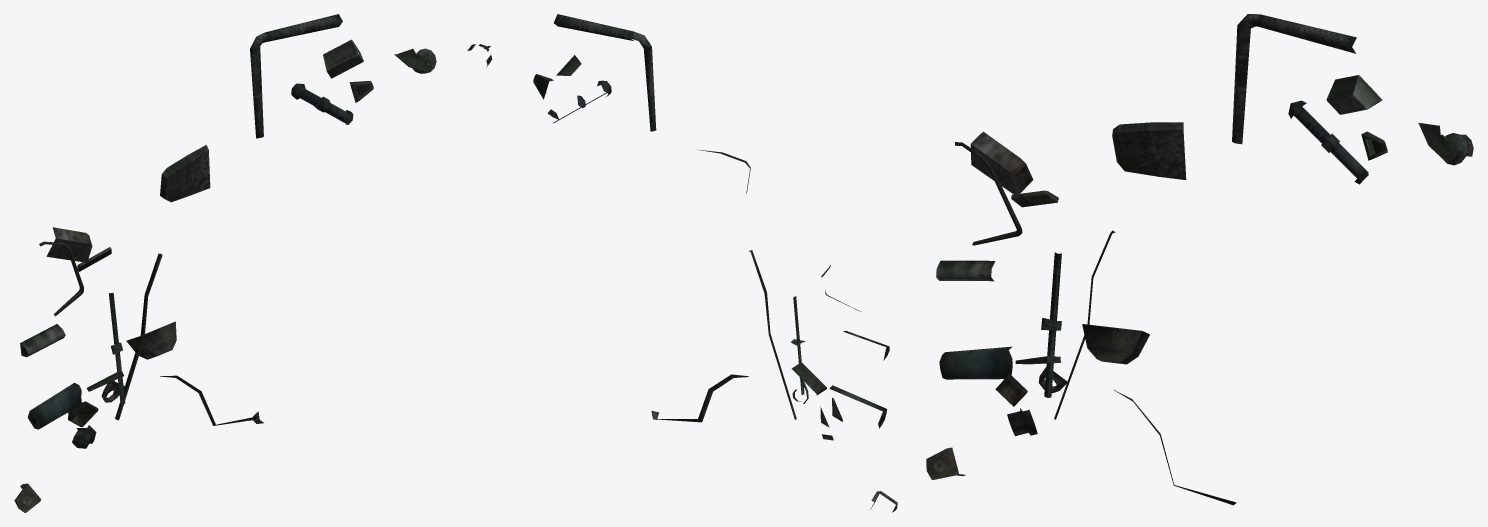
Rendered from vehicle_uni_carrier_burned_prop3.glb.
3 renders of one model, left to right at view 1: azimuth 30°, elevation 25°; view 2: azimuth 150°, elevation 25°; view 3: azimuth 330°, elevation 25°, orthographic. The views are drawn at different scales.
Bounding box in the file's own units: 144 × 137 × 13.
Materials: 1 (1 with a texture image).
